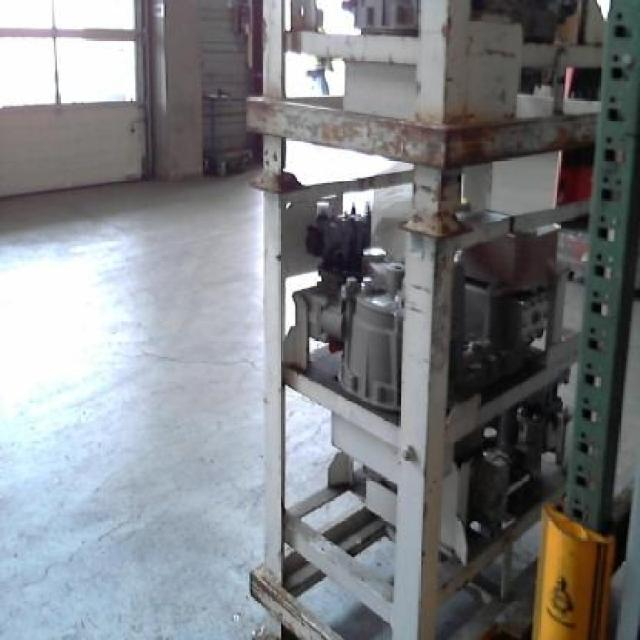pallets: (245, 0, 637, 637), (557, 106, 600, 294), (288, 146, 342, 177), (288, 57, 338, 88)
